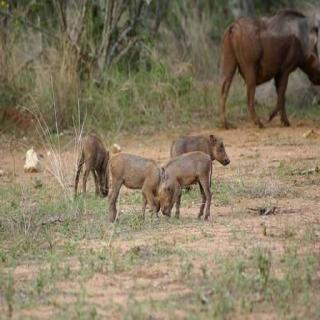Pig: (115, 139, 174, 232), (168, 120, 248, 180)
